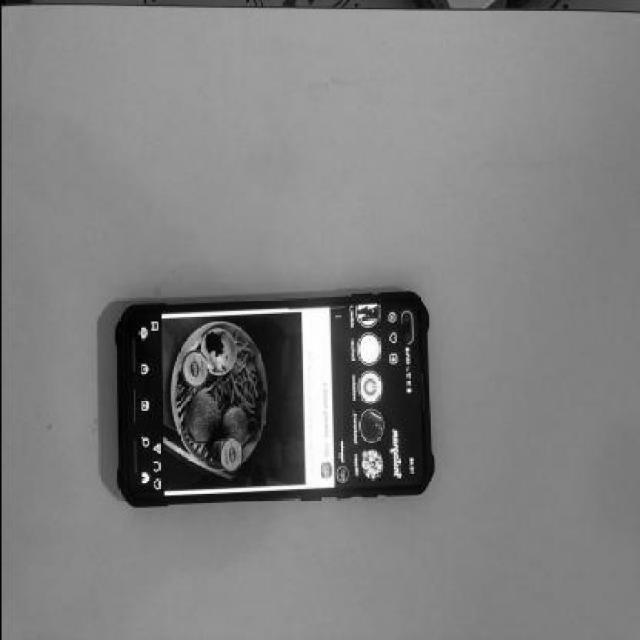fake: (110, 288, 436, 504)
